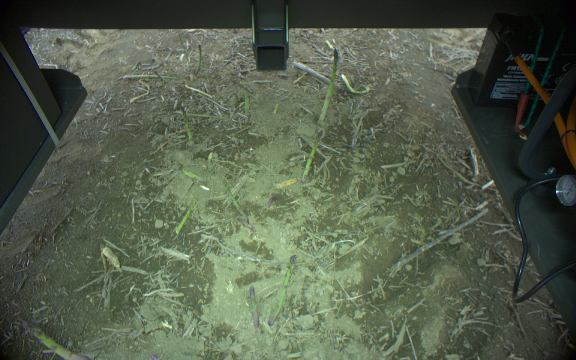aspa: (17, 319, 93, 360), (268, 253, 299, 326), (317, 47, 339, 122), (220, 175, 252, 221), (301, 130, 323, 179), (340, 68, 374, 99), (246, 283, 262, 330), (121, 70, 180, 82), (175, 201, 195, 235), (179, 105, 194, 143), (184, 83, 213, 99), (177, 168, 207, 183), (195, 42, 206, 79), (241, 91, 253, 113)
